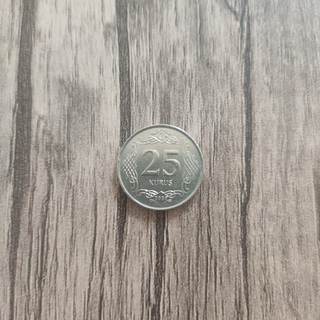25KURUS: (114, 122, 206, 212)
